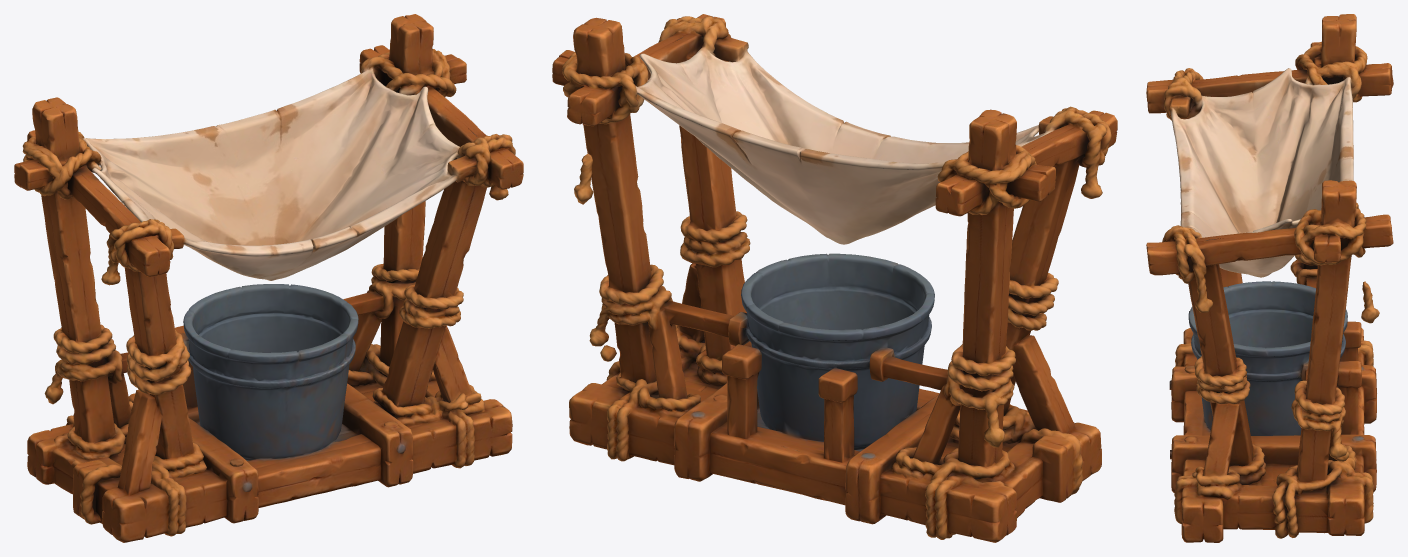
The model's file is WaterCollectorLevel01.fbx.
The picture shows the model from 3 angles, left to right: view 1: azimuth 30°, elevation 25°; view 2: azimuth 150°, elevation 25°; view 3: azimuth 270°, elevation 25°; orthographic projection. The views are drawn at different scales.
Parts seen in each view (by area): view 1: tripo_node_01313f85; view 2: tripo_node_01313f85; view 3: tripo_node_01313f85.
Boxes of the visible parts, left/top/right/bottom form: tripo_node_01313f85: left=14, top=14, right=523, bottom=542; tripo_node_01313f85: left=552, top=14, right=1117, bottom=542; tripo_node_01313f85: left=1146, top=14, right=1393, bottom=542.
Bounding box in the file's own units: 1 × 0.824 × 0.5179.
